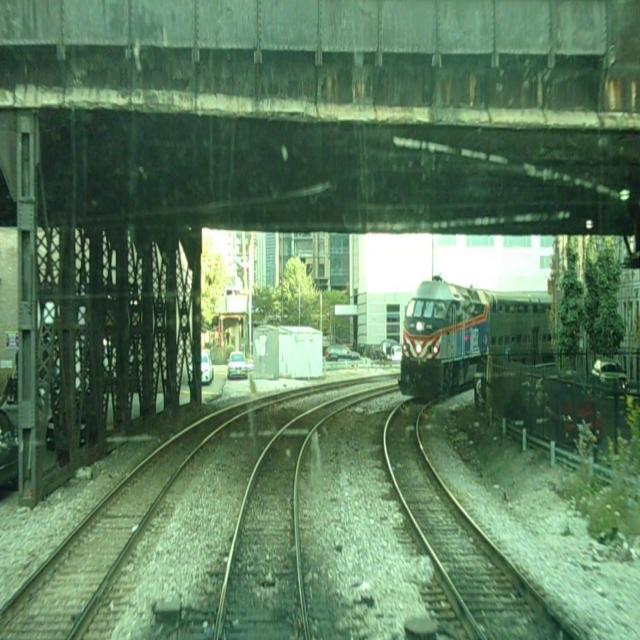rail-track: (0, 405, 248, 639), (387, 400, 577, 639), (219, 399, 348, 639)
